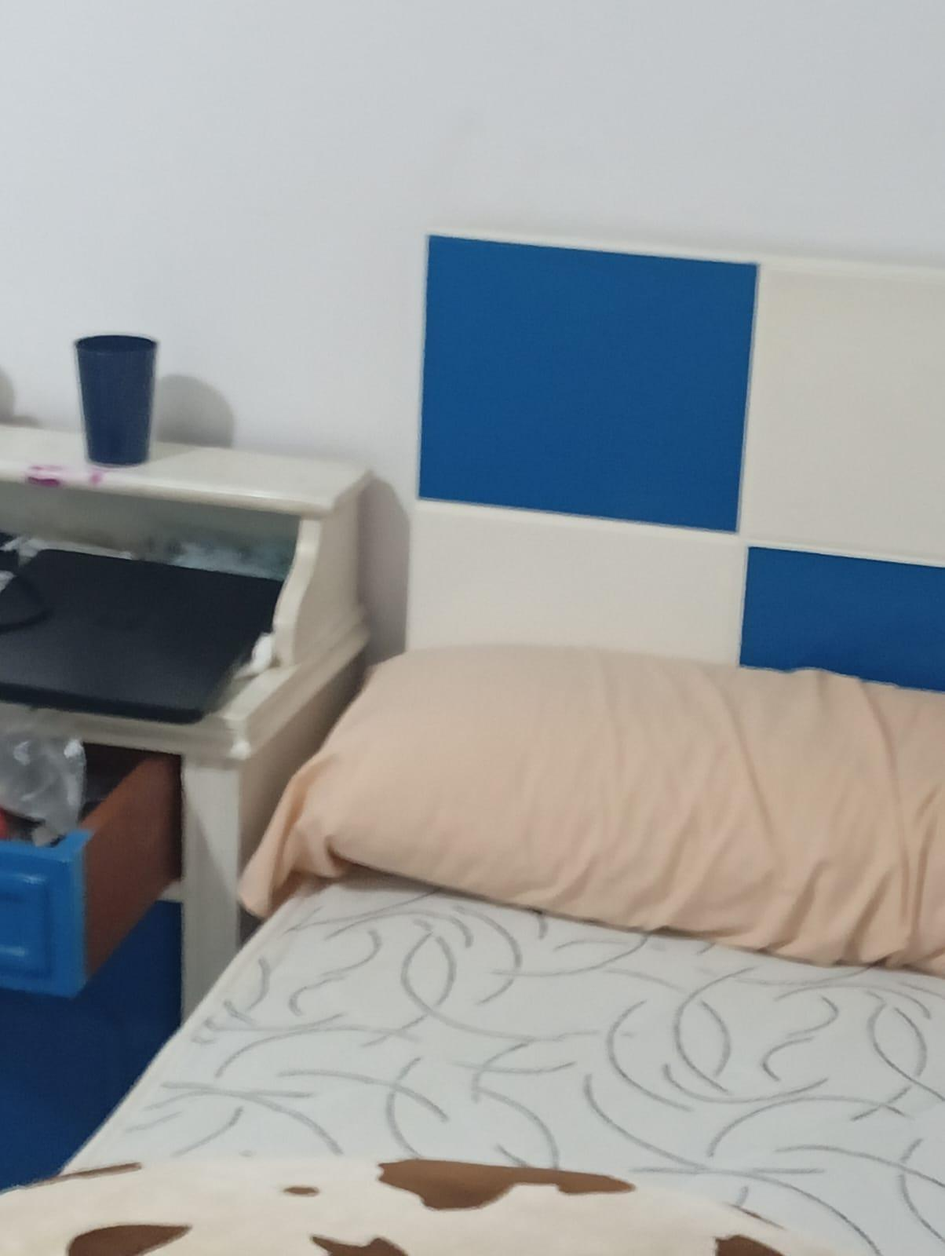cup: (75, 335, 156, 466)
